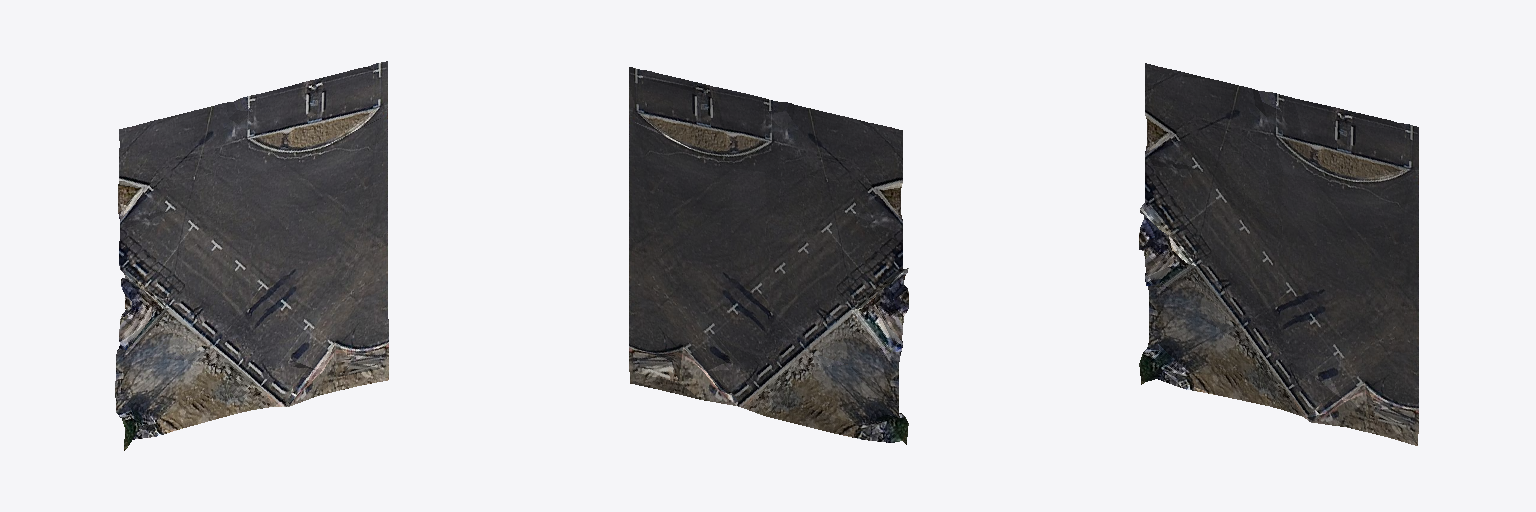
3 renders of one model, left to right at view 1: azimuth 30°, elevation 25°; view 2: azimuth 150°, elevation 25°; view 3: azimuth 330°, elevation 25°, orthographic.
Parts seen in each view (by area): view 1: obj_0; view 2: obj_0; view 3: obj_0.
Boxes of the visible parts, x1=… form: obj_0: x1=115, y1=61, x2=388, y2=450; obj_0: x1=629, y1=67, x2=908, y2=444; obj_0: x1=1139, y1=63, x2=1418, y2=445.
Size of the model in its own units: 20.08 by 22.52 by 1.38.
1 materials, 1 textured.